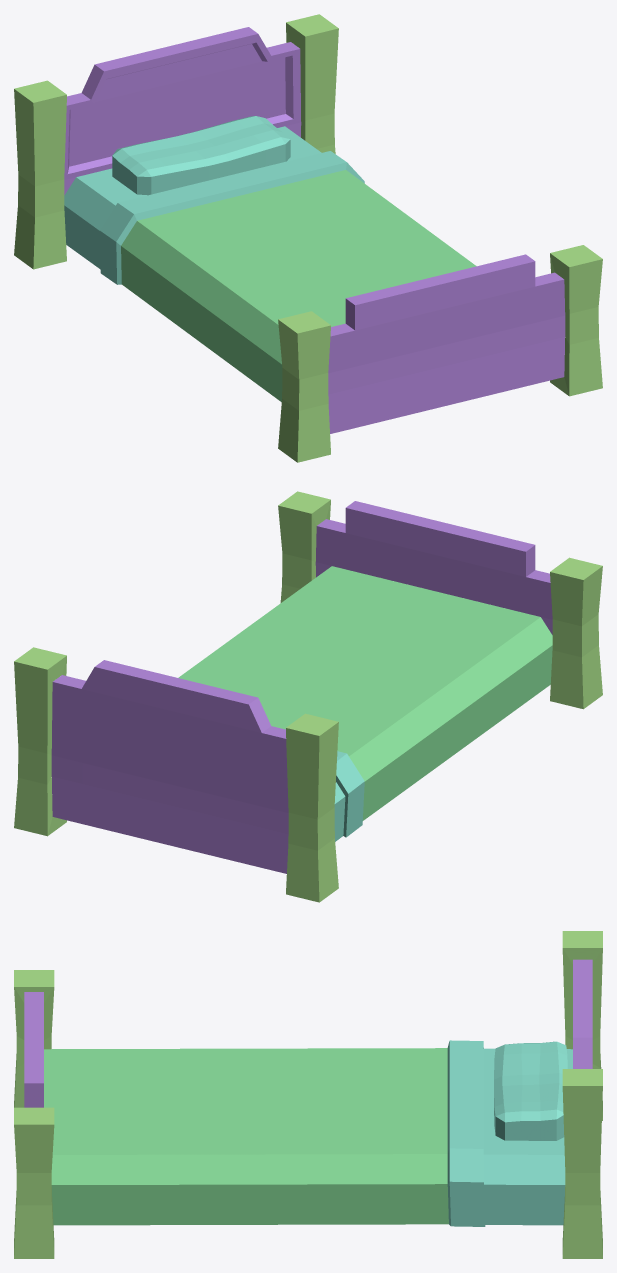
Rendered from Bed.glb.
The picture shows the model from 3 angles, top to bottom: view 1: azimuth 30°, elevation 25°; view 2: azimuth 150°, elevation 25°; view 3: azimuth 270°, elevation 25°; orthographic projection. The views are drawn at different scales.
Parts seen in each view (by area): view 1: Bed_0, Bed_2, Bed_3, Bed_1; view 2: Bed_0, Bed_2, Bed_3, Bed_1; view 3: Bed_2, Bed_1, Bed_3, Bed_0.
Part boxes in pixels (x1,y1,x2,y2): Bed_0: (64, 27, 565, 433); Bed_2: (121, 170, 476, 401); Bed_3: (14, 14, 602, 462); Bed_1: (64, 116, 364, 284); Bed_0: (51, 501, 552, 873); Bed_2: (178, 566, 552, 820); Bed_3: (14, 491, 602, 902); Bed_1: (334, 751, 364, 841); Bed_2: (44, 1048, 448, 1225); Bed_1: (447, 1040, 572, 1226); Bed_3: (14, 931, 602, 1258); Bed_0: (24, 959, 592, 1107).
Size of the model in its own units: 0.8898 by 0.4898 by 1.43.
